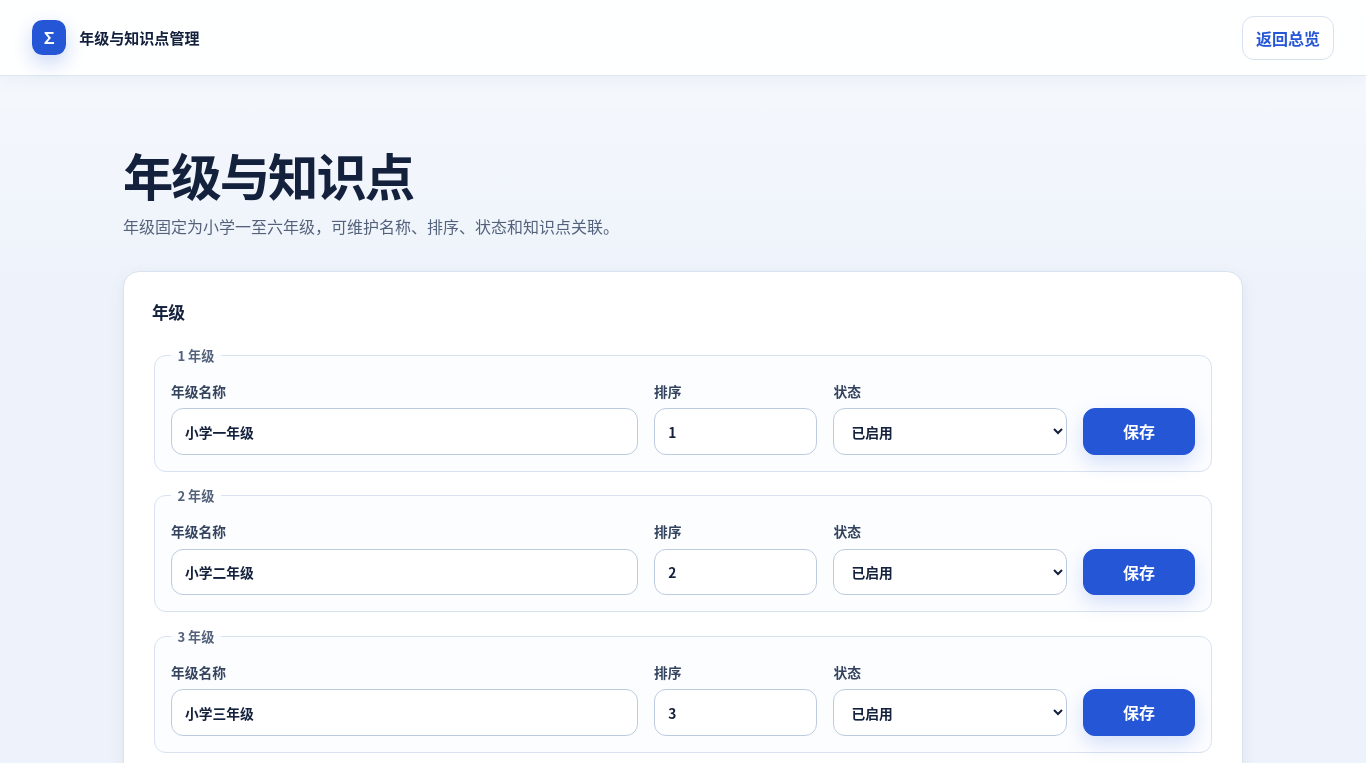
Test: grade and knowledge-point management › loads all fixed grades and lets the administrator update one
This screenshot has width=1366, height=763.
Replace the text in the 1st field labelled "年级名称" with "一年级" at (404, 432), box [171,408,638,455]
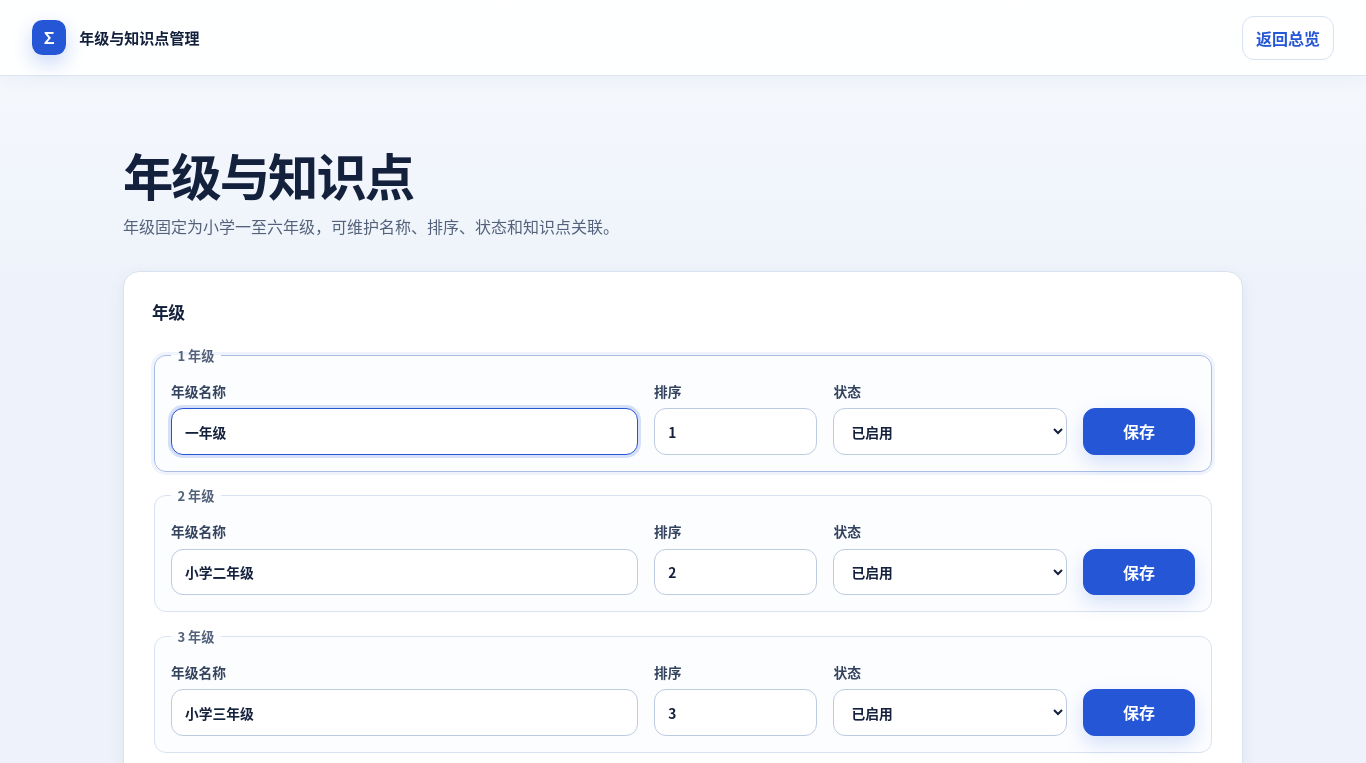
Select "已停用" in the 1st dropdown labelled "状态" at (950, 432), box [834,408,1067,455]
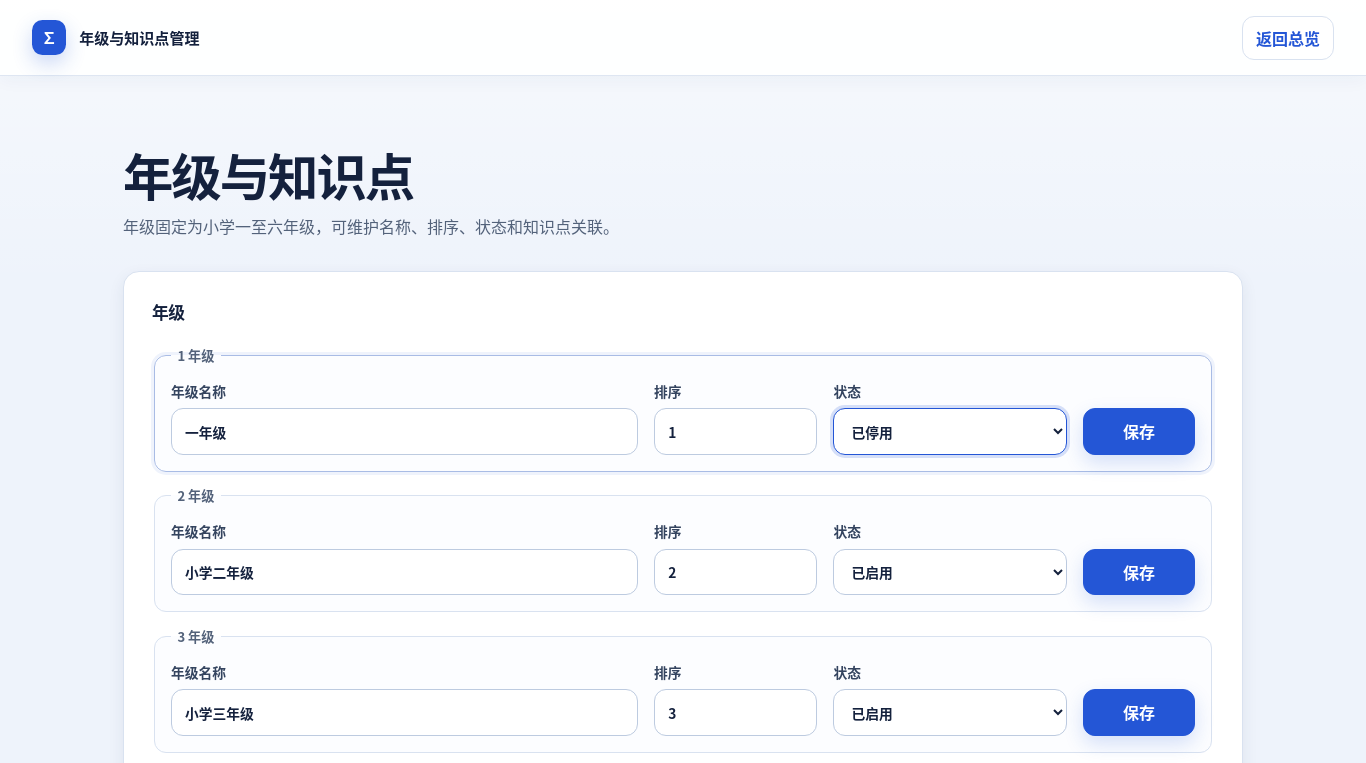
Click the 1st button "保存" at (1139, 432), box [1083,408,1195,455]
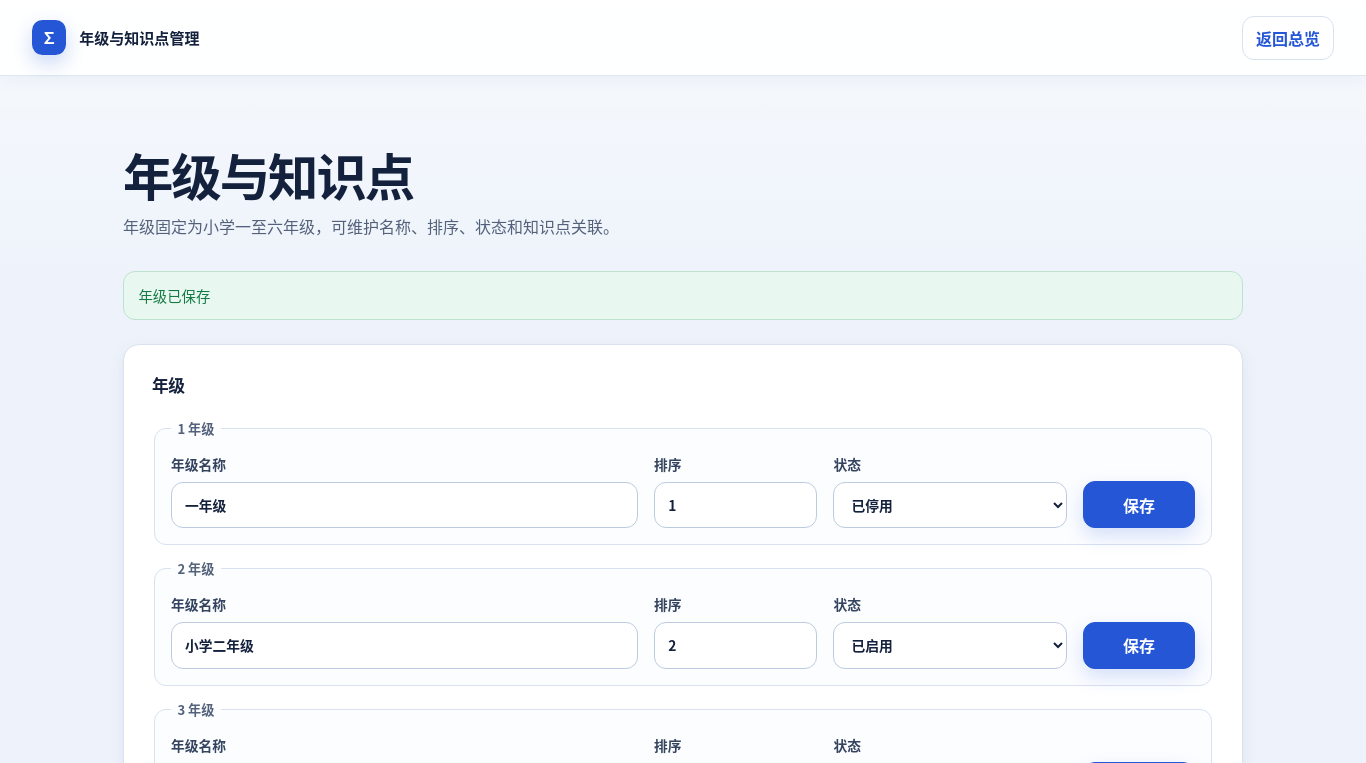
Result: the text "年级已保存" is shown at [123,271,1243,320]
